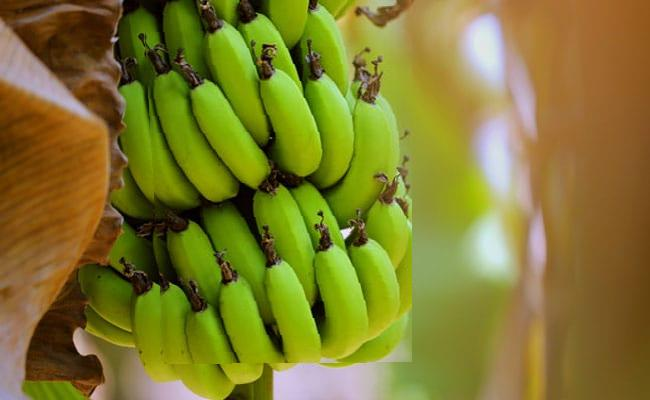Banana Semifresh: (143, 6, 412, 364)
